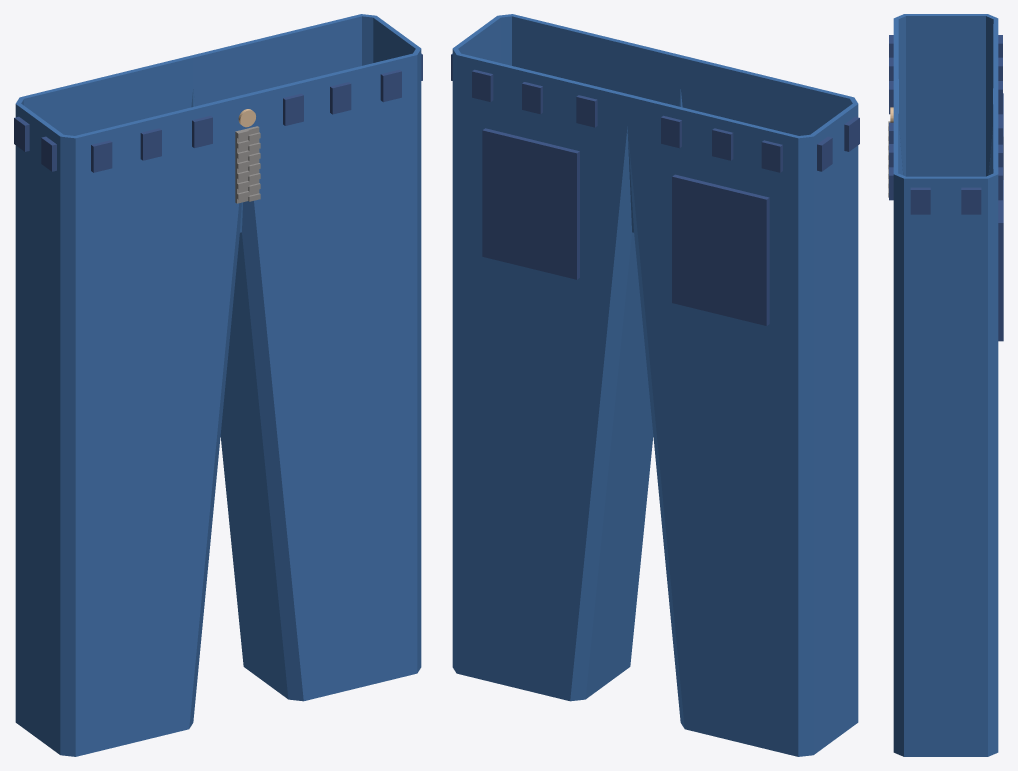
File: pants.glb
3 renders of one model, left to right at view 1: azimuth 30°, elevation 25°; view 2: azimuth 150°, elevation 25°; view 3: azimuth 270°, elevation 25°, orthographic. The views are drawn at different scales.
Parts seen in each view (by area): view 1: Pants, Zipper; view 2: Pants, BackPocket1, BackPocket2; view 3: Pants, BackPocket2, PantLoop9, PantLoop10.
Part boxes in pixels (left/top/right/bottom): Pants: left=15, top=14, right=421, bottom=756; Zipper: left=235, top=126, right=260, bottom=203; Pants: left=452, top=14, right=858, bottom=756; BackPocket1: left=672, top=174, right=769, bottom=325; BackPocket2: left=482, top=128, right=579, bottom=279; Pants: left=893, top=14, right=998, bottom=756; BackPocket2: left=998, top=180, right=1003, bottom=341; PantLoop9: left=961, top=187, right=981, bottom=214; PantLoop10: left=910, top=187, right=930, bottom=214.
Bounding box in the file's own units: 3.82 × 6.1 × 1.1.
